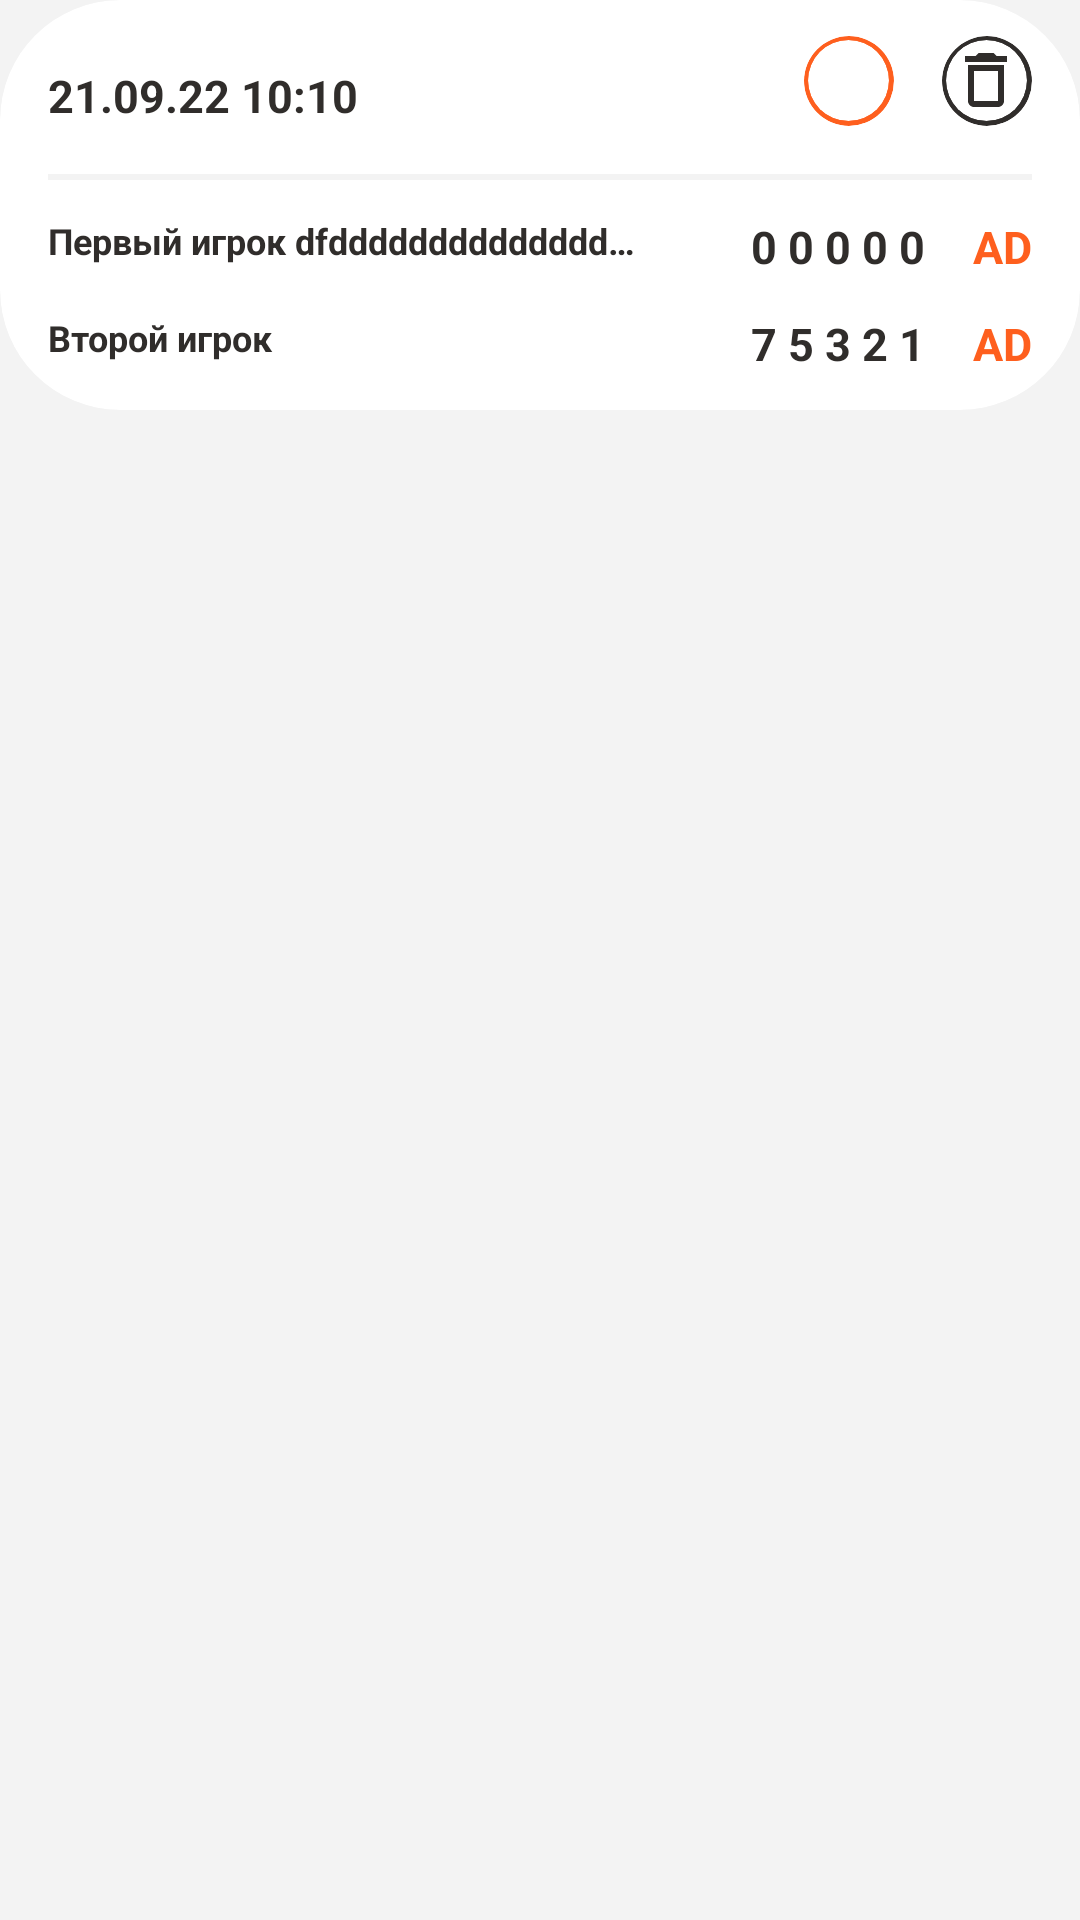

Screen size 1080 x 1920. Icon name, then its box in pixels as (x1, y1, x2, y2):
delete: (965, 53, 1007, 107)
